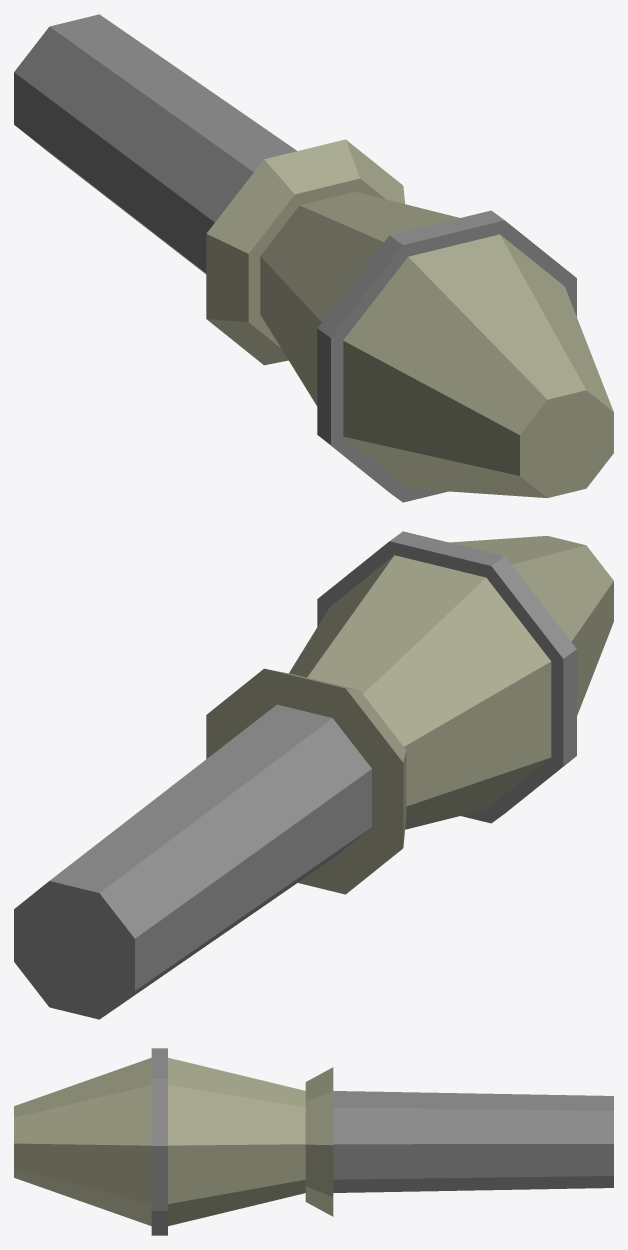
Rendered from ammo_rocket.glb.
3 renders of one model, top to bottom at view 1: azimuth 30°, elevation 25°; view 2: azimuth 150°, elevation 25°; view 3: azimuth 270°, elevation 25°, orthographic. The views are drawn at different scales.
Visible parts, largest first — view 1: Mesh1 Group1 Model; view 2: Mesh1 Group1 Model; view 3: Mesh1 Group1 Model.
Part boxes in pixels (<box>): Mesh1 Group1 Model: <box>14,14,613,502</box>; Mesh1 Group1 Model: <box>14,531,613,1019</box>; Mesh1 Group1 Model: <box>14,1048,613,1235</box>.
Bounding box in the file's own units: 0.0189 × 0.0189 × 0.0654.
